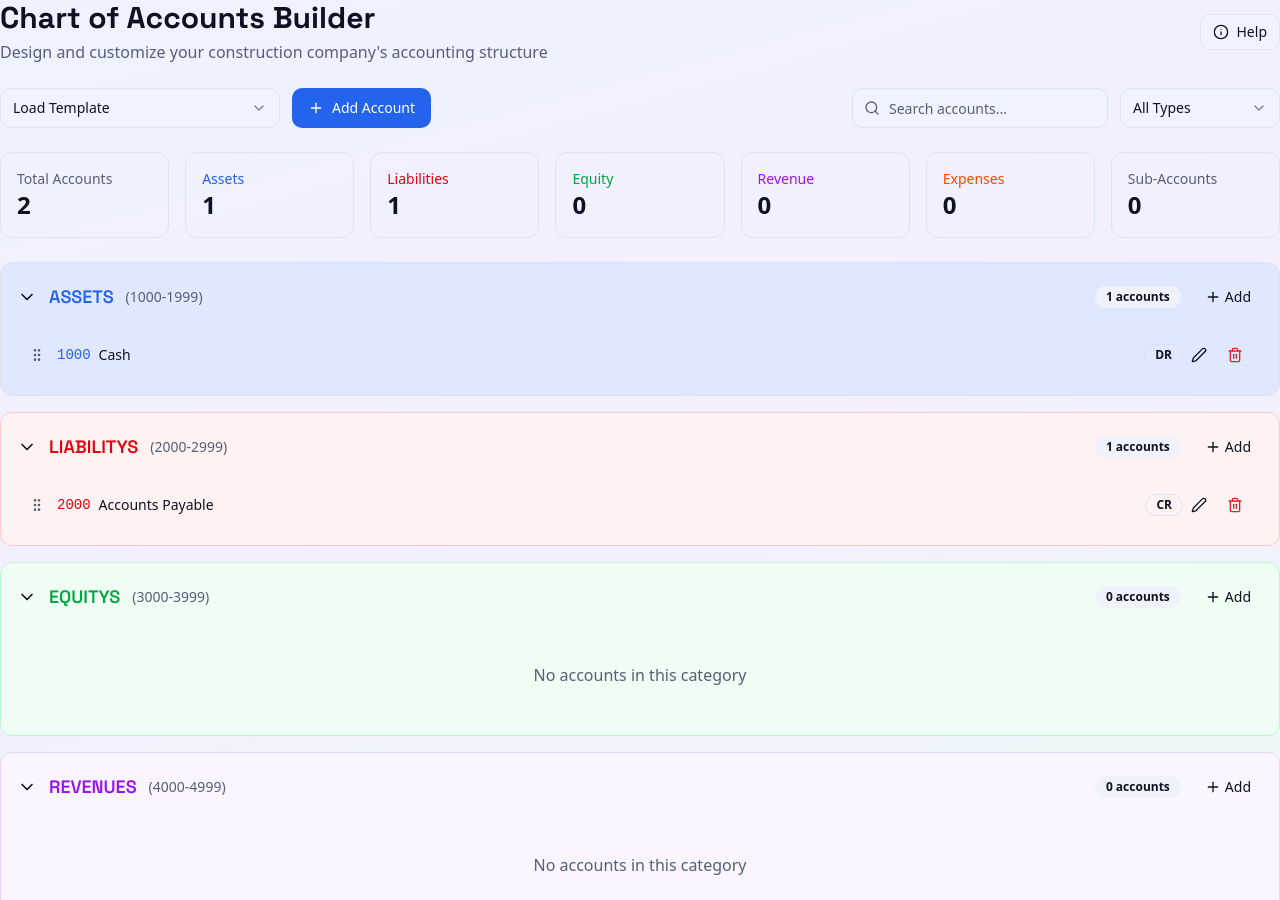
Test case: ChartOfAccountsBuilder › opens add account dialog when Add Account button is clicked
The width and height of the screenshot is (1280, 900).
Click the button "Add Account" at (362, 108), box [292,88,431,128]
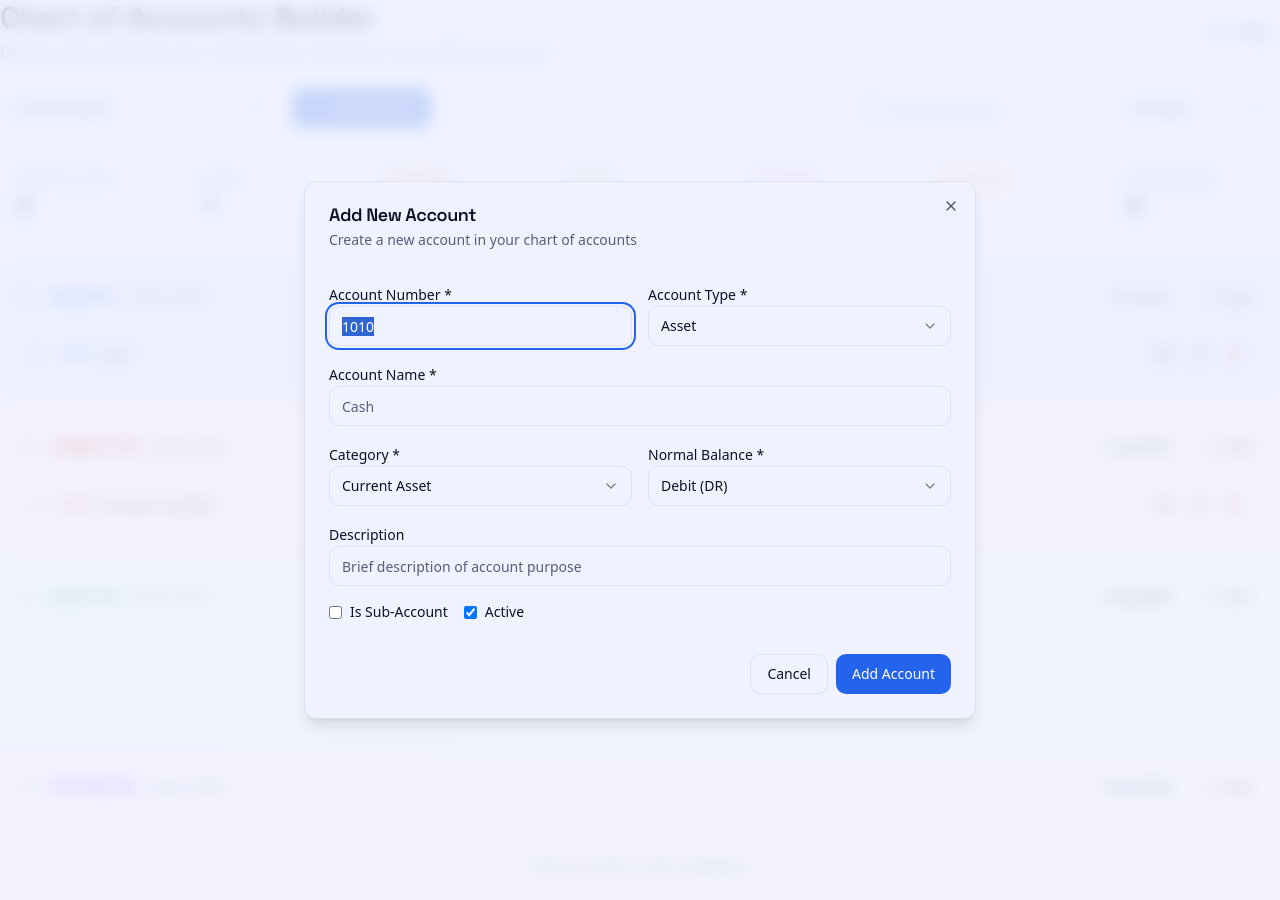
Check: the heading "Add New Account" is shown, box [329,203,476,226]
